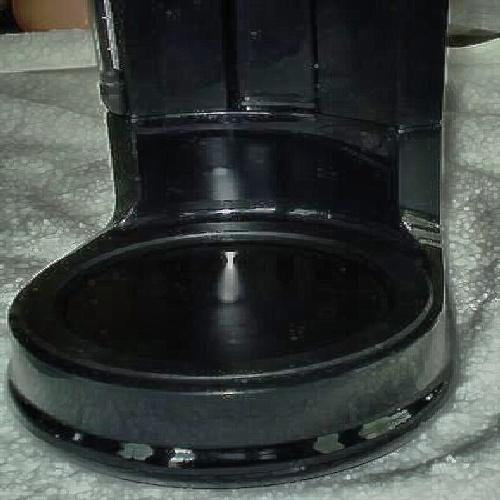coffee_maker: (24, 7, 456, 458)
